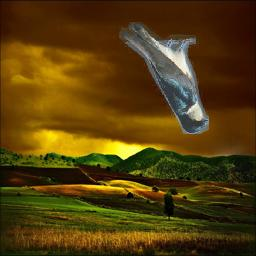Swallow: (119, 22, 209, 134)
